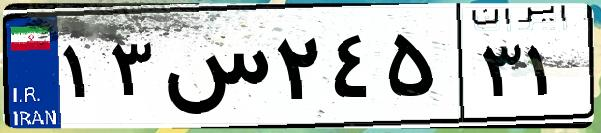1: (57, 26, 110, 100), (525, 38, 570, 115)
2: (270, 28, 330, 110)
3: (475, 38, 525, 113), (110, 28, 158, 98)
4: (330, 28, 385, 110)
5: (385, 28, 445, 110)
س: (158, 20, 270, 120)
